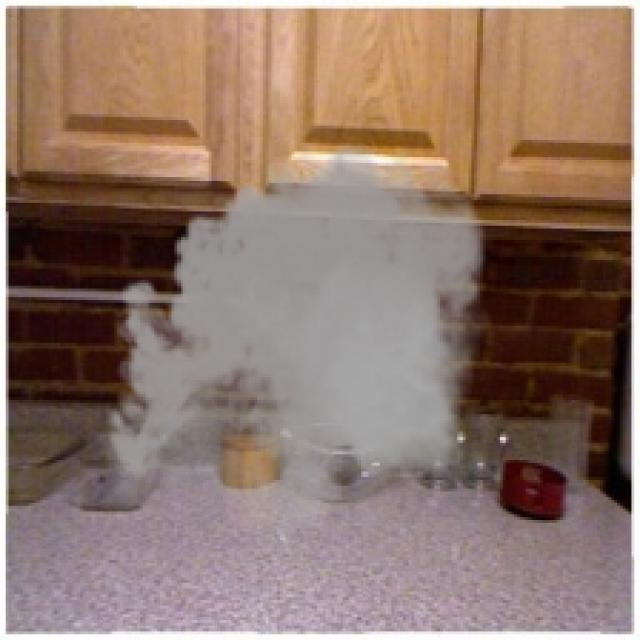smoke: (94, 128, 500, 546)
